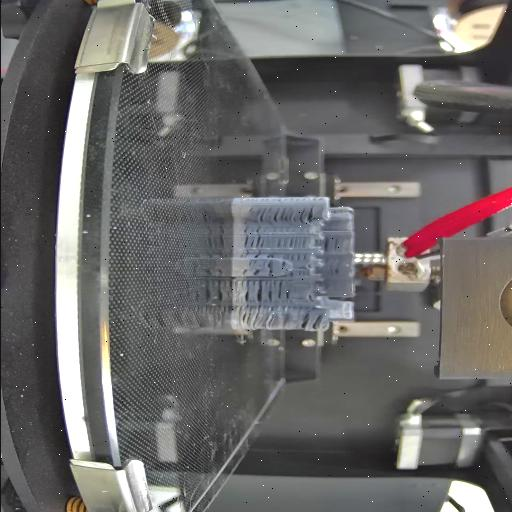cracks: (254, 203, 314, 225), (238, 305, 289, 329), (238, 280, 272, 303), (301, 308, 321, 332), (276, 236, 304, 248), (241, 234, 264, 248), (276, 280, 290, 300), (240, 250, 272, 258), (322, 235, 338, 251), (238, 266, 260, 276), (288, 268, 310, 278), (263, 258, 275, 276), (242, 224, 264, 233), (288, 253, 308, 262), (328, 260, 340, 275), (278, 260, 286, 268)
